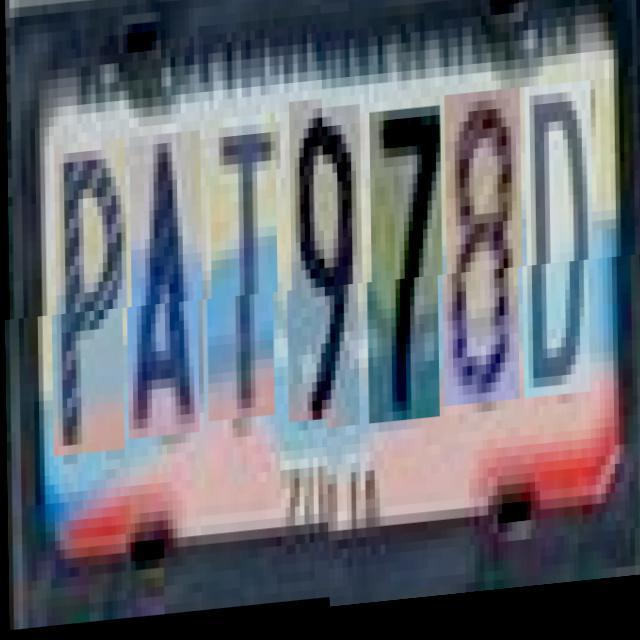7: (369, 115, 443, 431)
8: (444, 99, 523, 416)
9: (289, 111, 363, 438)
A: (129, 144, 203, 450)
D: (524, 93, 594, 409)
P: (54, 150, 128, 467)
T: (208, 128, 278, 434)
